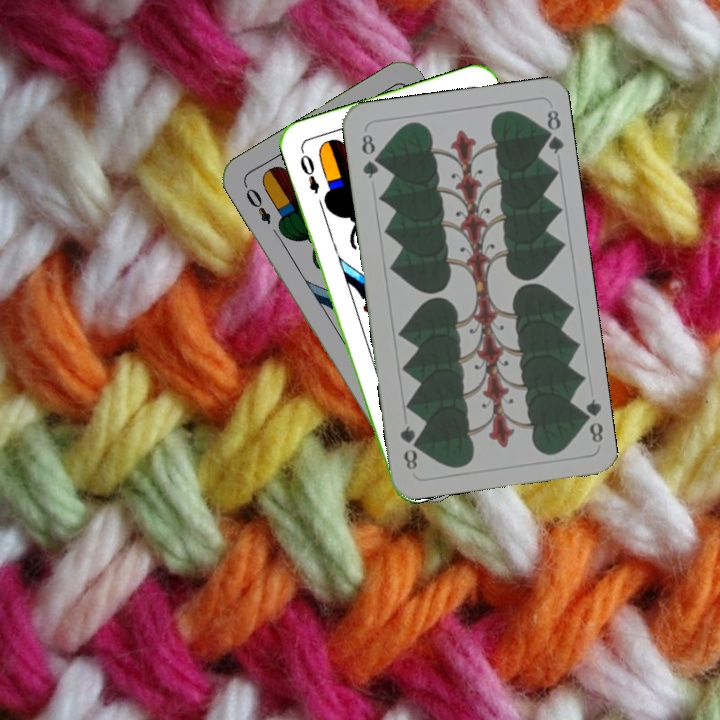EO: (240, 180, 274, 227), (296, 146, 322, 197)
G8: (575, 395, 606, 445), (357, 130, 382, 181)
